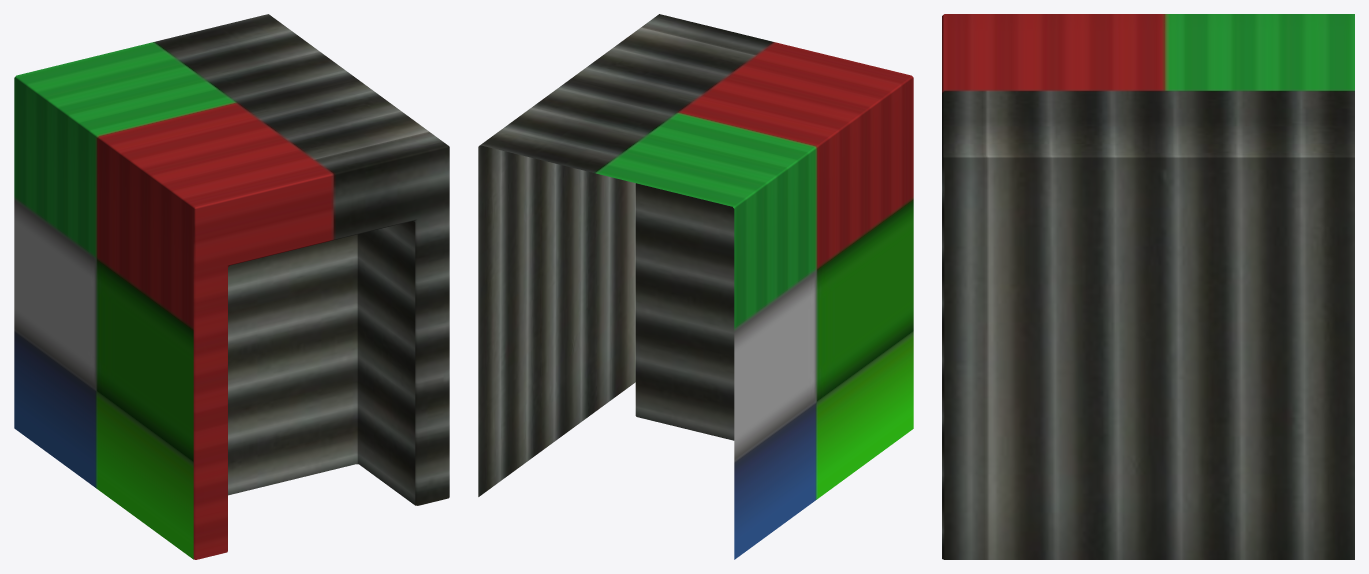
The model's file is Plastic Conveyor.fbx.
3 views of the same model, side by side, from view 1: azimuth 30°, elevation 25°; view 2: azimuth 150°, elevation 25°; view 3: azimuth 270°, elevation 25° (orthographic). The views are drawn at different scales.
Parts seen in each view (by area): view 1: Plastic Conveyor; view 2: Plastic Conveyor; view 3: Plastic Conveyor.
Part boxes in pixels (box(x1,y1,x2,y2)): Plastic Conveyor: box(14, 14, 449, 559); Plastic Conveyor: box(478, 14, 913, 559); Plastic Conveyor: box(942, 14, 1354, 559).
Size of the model in its own units: 615 by 809 by 750.
